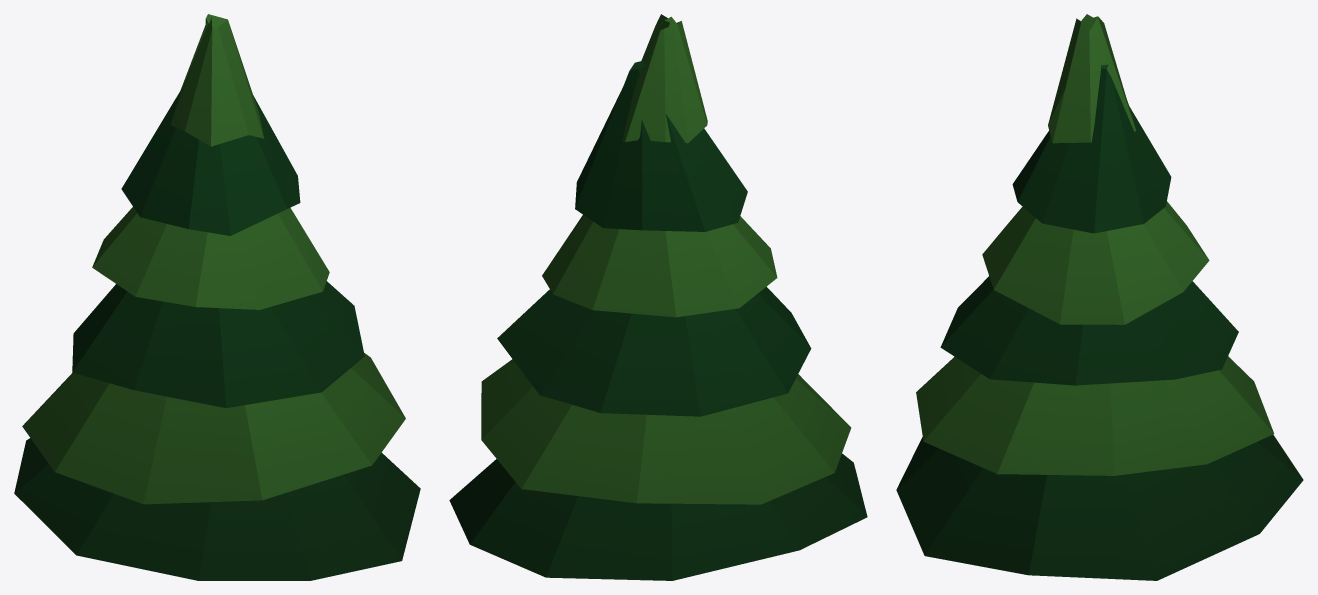
File: pineL.glb
3 renders of one model, left to right at view 1: azimuth 30°, elevation 25°; view 2: azimuth 150°, elevation 25°; view 3: azimuth 270°, elevation 25°, orthographic. The views are drawn at different scales.
Visible parts, largest first — view 1: pineL; view 2: pineL; view 3: pineL.
Part boxes in pixels (x1,y1,x2,y2): pineL: (14,14,420,580); pineL: (449,14,867,580); pineL: (896,14,1303,580).
Bounding box in the file's own units: 1.21 × 1.68 × 1.26.
